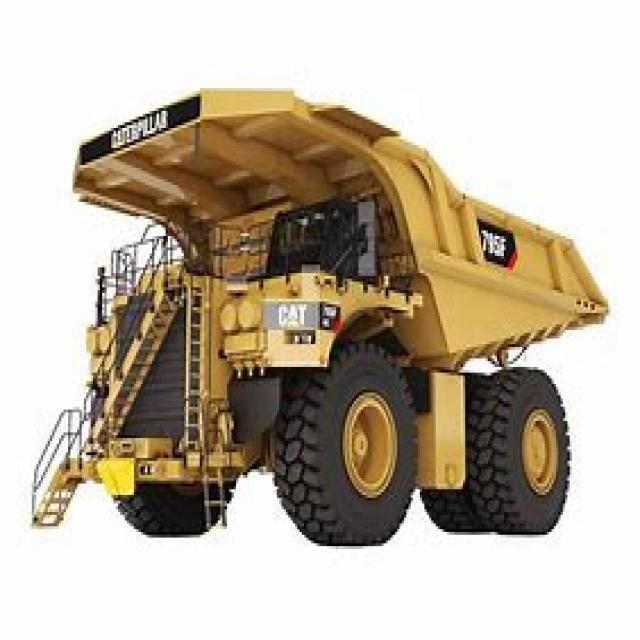dump_truck: (36, 85, 606, 546)
